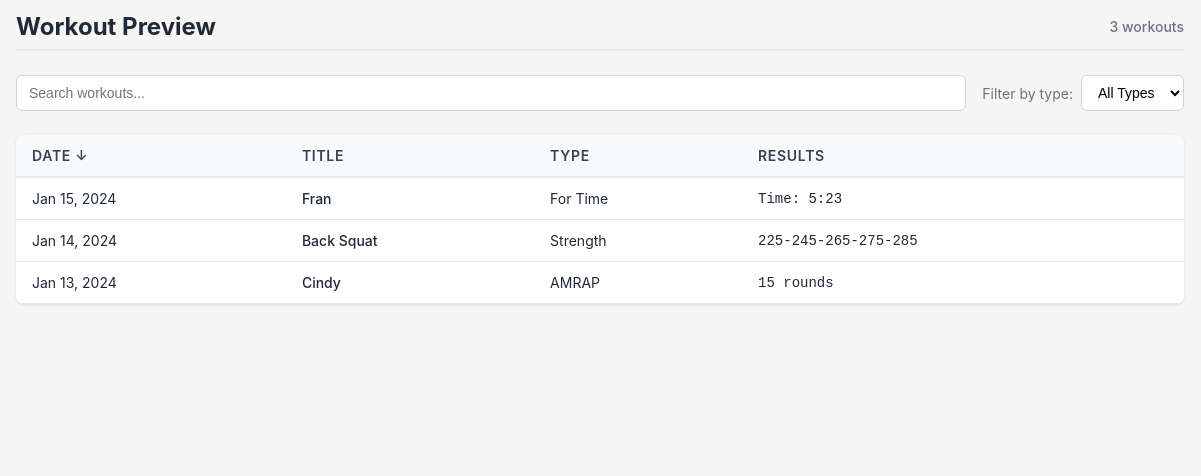
Test: ExportPreview › Row Expansion › should collapse expanded row on second click
Click the text "Fran": (600, 198) x1=16 y1=177 x2=1184 y2=220
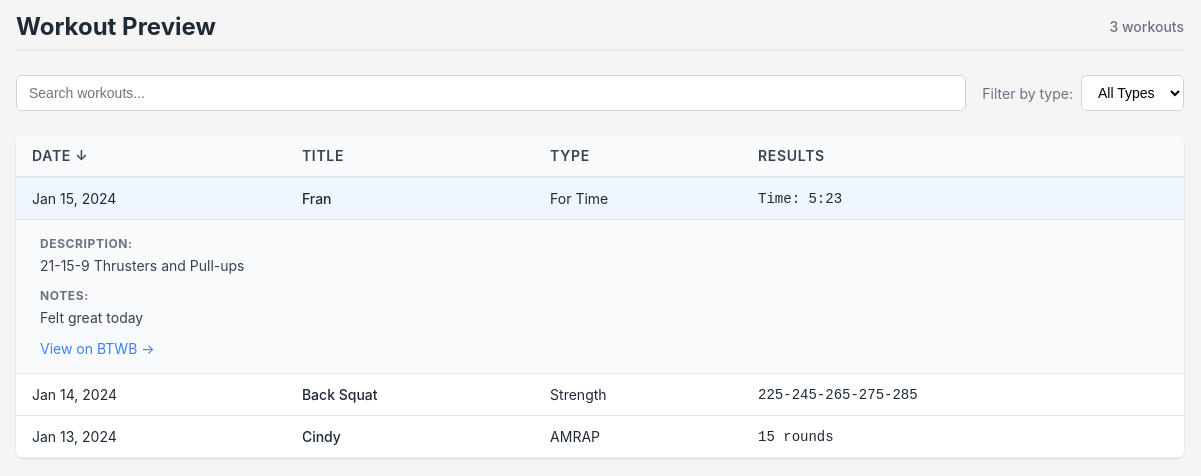
Check: the text "21-15-9 Thrusters and Pull-ups" is shown, box x1=40 y1=257 x2=244 y2=274
Click the text "Fran": (600, 198) x1=16 y1=177 x2=1184 y2=220
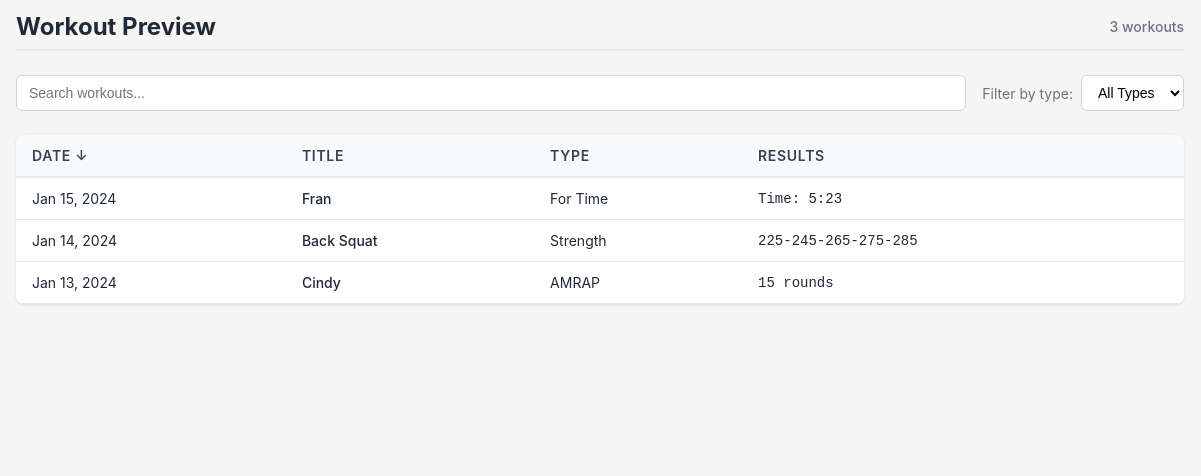
Check: the text "21-15-9 Thrusters and Pull-ups" is gone
